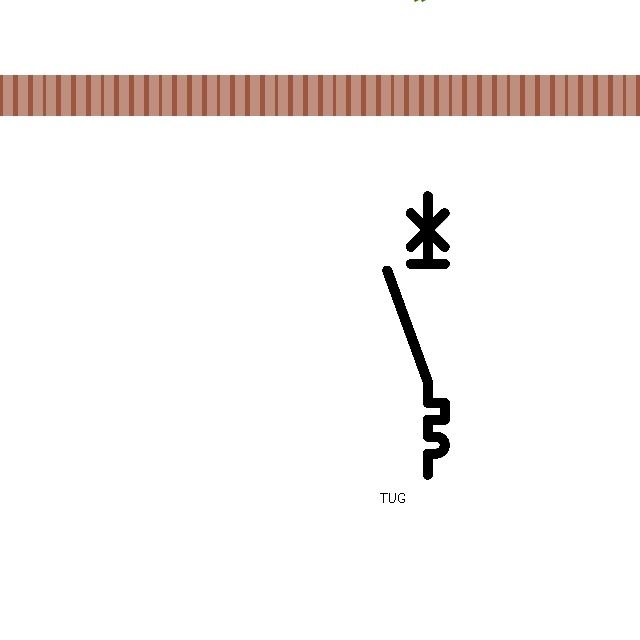interruptor_termomagnetico: (380, 189, 452, 482)
